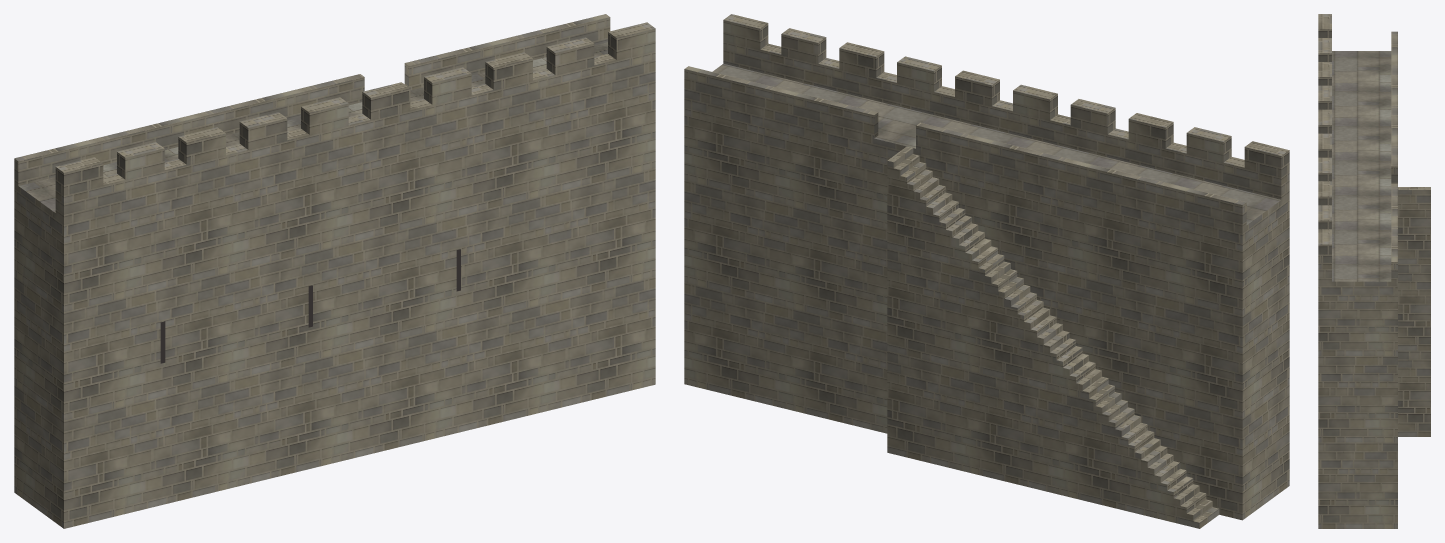
The model's file is fort-wall-24.reveal-v1.lod0.glb.
3 renders of one model, left to right at view 1: azimuth 30°, elevation 25°; view 2: azimuth 150°, elevation 25°; view 3: azimuth 270°, elevation 25°, orthographic. The views are drawn at different scales.
Parts seen in each view (by area): view 1: fort-wall-24; view 2: fort-wall-24; view 3: fort-wall-24.
Part boxes in pixels (box(x1,y1,x2,y2)): fort-wall-24: box(14, 14, 655, 528); fort-wall-24: box(684, 14, 1289, 528); fort-wall-24: box(1318, 14, 1430, 528).
Bounding box in the file's own units: 24 × 13.8 × 4.97.
3 materials, 2 textured.
